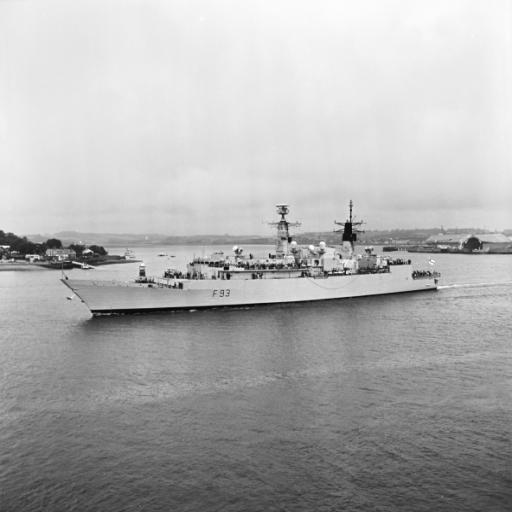Fragata: (55, 187, 446, 323)
